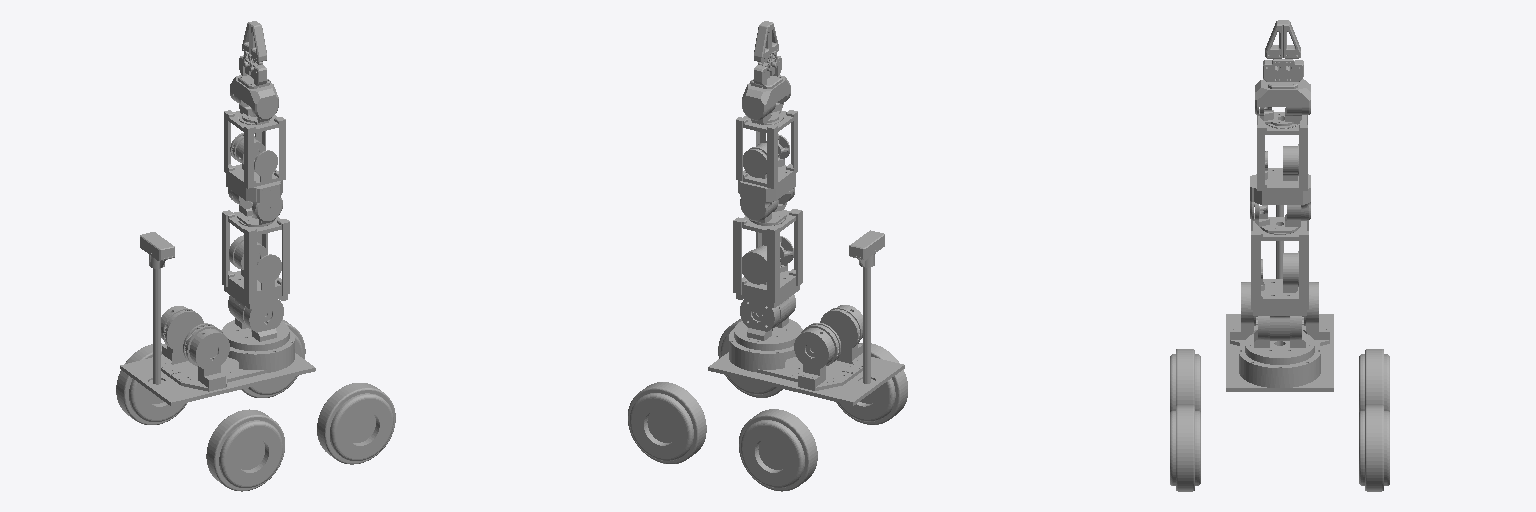
--- Facts derived from the render (not from the file) ---
3 views of the same robot in one strip: view 1: azimuth 30°, elevation 25°; view 2: azimuth 150°, elevation 25°; view 3: azimuth 270°, elevation 25° (orthographic).
Model HBV2_URDF with 19 links and 18 joints (10 revolute, 4 continuous, 4 fixed), rooted at base_link, posed all joints at 0.
Links seen in each view (by area): view 1: Shoulder_Theta_1, Elbow_Theta_1, Wheel_RF_1, Wheel_RB_1, Wrist_Theta_1, Shoulder_Fi_1, Wheel_LB_1, Gripper_Core_1, Camera_Rod__1__1, Wheel_LF_1, Camera_Housing_1, Elbow_Fi_1; view 2: Shoulder_Theta_1, Elbow_Theta_1, Wheel_LB_1, Wheel_LF_1, Wrist_Theta_1, Shoulder_Fi_1, Wheel_RB_1, Gripper_Core_1, Camera_Rod__1__1, Wheel_RF_1, Camera_Housing_1, Elbow_Fi_1; view 3: Shoulder_Theta_1, Elbow_Theta_1, Wrist_Theta_1, Wheel_RF_1, Wheel_LF_1, Gripper_Core_1, Shoulder_Fi_1, Wheel_RB_1, Wheel_LB_1, Elbow_Fi_1, Wrist_Fi_1.
Link boxes in pixels (<box>): Shoulder_Theta_1: <box>120,306,315,405</box>; Elbow_Theta_1: <box>222,210,289,329</box>; Wheel_RF_1: <box>317,383,395,464</box>; Wheel_RB_1: <box>206,409,284,491</box>; Wrist_Theta_1: <box>224,110,285,221</box>; Shoulder_Fi_1: <box>222,295,289,351</box>; Wheel_LB_1: <box>116,343,186,424</box>; Gripper_Core_1: <box>230,54,278,119</box>; Camera_Rod__1__1: <box>153,268,160,384</box>; Wheel_LF_1: <box>241,319,305,397</box>; Camera_Housing_1: <box>140,232,174,268</box>; Elbow_Fi_1: <box>232,191,274,226</box>; Shoulder_Theta_1: <box>708,305,904,405</box>; Elbow_Theta_1: <box>733,209,802,328</box>; Wheel_LB_1: <box>739,409,817,491</box>; Wheel_LF_1: <box>628,382,706,463</box>; Wrist_Theta_1: <box>736,110,797,221</box>; Shoulder_Fi_1: <box>734,295,801,350</box>; Wheel_RB_1: <box>836,343,907,424</box>; Gripper_Core_1: <box>742,55,790,120</box>; Camera_Rod__1__1: <box>863,267,870,383</box>; Wheel_RF_1: <box>718,319,782,397</box>; Camera_Housing_1: <box>849,230,884,267</box>; Elbow_Fi_1: <box>749,189,793,225</box>; Shoulder_Theta_1: <box>1226,282,1333,391</box>; Elbow_Theta_1: <box>1251,213,1308,340</box>; Wrist_Theta_1: <box>1250,109,1310,220</box>; Wheel_RF_1: <box>1170,405,1200,491</box>; Wheel_LF_1: <box>1359,405,1389,491</box>; Gripper_Core_1: <box>1255,59,1310,114</box>; Shoulder_Fi_1: <box>1245,316,1314,364</box>; Wheel_RB_1: <box>1170,349,1200,411</box>; Wheel_LB_1: <box>1359,349,1389,411</box>; Elbow_Fi_1: <box>1255,203,1300,234</box>; Wrist_Fi_1: <box>1260,107,1301,128</box>.
Size in the robot's own frame: 0.6459 by 0.5849 by 1.28 metres.
17 mesh visuals loaded from 18 distinct referenced files (17 binary STL); not drawn: 1 (reference not matched to a file when rendering).

robot.urdf — HBV2_URDF:
<?xml version="1.0" ?>
<!-- =================================================================================== -->
<!-- |    This document was autogenerated by xacro from HBV2_URDF.xacro                | -->
<!-- |    EDITING THIS FILE BY HAND IS NOT RECOMMENDED                                 | -->
<!-- =================================================================================== -->
<robot name="HBV2_URDF">
  <material name="silver">
    <color rgba="0.700 0.700 0.700 1.000"/>
  </material>
  <transmission name="Elbow_Theta_tran">
    <type>transmission_interface/SimpleTransmission</type>
    <joint name="Elbow_Theta">
      <hardwareInterface>hardware_interface/PositionJointInterface</hardwareInterface>
    </joint>
    <actuator name="Elbow_Theta_actr">
      <hardwareInterface>hardware_interface/PositionJointInterface</hardwareInterface>
      <mechanicalReduction>1</mechanicalReduction>
    </actuator>
  </transmission>
  <transmission name="Wrist_Theta_tran">
    <type>transmission_interface/SimpleTransmission</type>
    <joint name="Wrist_Theta">
      <hardwareInterface>hardware_interface/PositionJointInterface</hardwareInterface>
    </joint>
    <actuator name="Wrist_Theta_actr">
      <hardwareInterface>hardware_interface/PositionJointInterface</hardwareInterface>
      <mechanicalReduction>1</mechanicalReduction>
    </actuator>
  </transmission>
  <transmission name="Shoulder_Theta_Joint_tran">
    <type>transmission_interface/SimpleTransmission</type>
    <joint name="Shoulder_Theta_Joint">
      <hardwareInterface>hardware_interface/PositionJointInterface</hardwareInterface>
    </joint>
    <actuator name="Shoulder_Theta_Joint_actr">
      <hardwareInterface>hardware_interface/PositionJointInterface</hardwareInterface>
      <mechanicalReduction>1</mechanicalReduction>
    </actuator>
  </transmission>
  <transmission name="GCore_RSL_tran">
    <type>transmission_interface/SimpleTransmission</type>
    <joint name="GCore_RSL">
      <hardwareInterface>hardware_interface/PositionJointInterface</hardwareInterface>
    </joint>
    <actuator name="GCore_RSL_actr">
      <hardwareInterface>hardware_interface/PositionJointInterface</hardwareInterface>
      <mechanicalReduction>1</mechanicalReduction>
    </actuator>
  </transmission>
  <transmission name="RSL_RightProng_tran">
    <type>transmission_interface/SimpleTransmission</type>
    <joint name="RSL_RightProng">
      <hardwareInterface>hardware_interface/PositionJointInterface</hardwareInterface>
    </joint>
    <actuator name="RSL_RightProng_actr">
      <hardwareInterface>hardware_interface/PositionJointInterface</hardwareInterface>
      <mechanicalReduction>1</mechanicalReduction>
    </actuator>
  </transmission>
  <transmission name="LSL_LeftProng_tran">
    <type>transmission_interface/SimpleTransmission</type>
    <joint name="LSL_LeftProng">
      <hardwareInterface>hardware_interface/PositionJointInterface</hardwareInterface>
    </joint>
    <actuator name="LSL_LeftProng_actr">
      <hardwareInterface>hardware_interface/PositionJointInterface</hardwareInterface>
      <mechanicalReduction>1</mechanicalReduction>
    </actuator>
  </transmission>
  <transmission name="GCore_LSL_tran">
    <type>transmission_interface/SimpleTransmission</type>
    <joint name="GCore_LSL">
      <hardwareInterface>hardware_interface/PositionJointInterface</hardwareInterface>
    </joint>
    <actuator name="GCore_LSL_actr">
      <hardwareInterface>hardware_interface/PositionJointInterface</hardwareInterface>
      <mechanicalReduction>1</mechanicalReduction>
    </actuator>
  </transmission>
  <transmission name="Base_WheelRF_tran">
    <type>transmission_interface/SimpleTransmission</type>
    <joint name="Base_WheelRF">
      <hardwareInterface>hardware_interface/VelocityJointInterface</hardwareInterface>
    </joint>
    <actuator name="Base_WheelRF_actr">
      <hardwareInterface>hardware_interface/VelocityJointInterface</hardwareInterface>
      <mechanicalReduction>1</mechanicalReduction>
    </actuator>
  </transmission>
  <transmission name="Base_WheelLF_tran">
    <type>transmission_interface/SimpleTransmission</type>
    <joint name="Base_WheelLF">
      <hardwareInterface>hardware_interface/VelocityJointInterface</hardwareInterface>
    </joint>
    <actuator name="Base_WheelLF_actr">
      <hardwareInterface>hardware_interface/VelocityJointInterface</hardwareInterface>
      <mechanicalReduction>1</mechanicalReduction>
    </actuator>
  </transmission>
  <transmission name="Base_WheelRB_tran">
    <type>transmission_interface/SimpleTransmission</type>
    <joint name="Base_WheelRB">
      <hardwareInterface>hardware_interface/VelocityJointInterface</hardwareInterface>
    </joint>
    <actuator name="Base_WheelRB_actr">
      <hardwareInterface>hardware_interface/VelocityJointInterface</hardwareInterface>
      <mechanicalReduction>1</mechanicalReduction>
    </actuator>
  </transmission>
  <transmission name="Base_WheelLB_tran">
    <type>transmission_interface/SimpleTransmission</type>
    <joint name="Base_WheelLB">
      <hardwareInterface>hardware_interface/VelocityJointInterface</hardwareInterface>
    </joint>
    <actuator name="Base_WheelLB_actr">
      <hardwareInterface>hardware_interface/VelocityJointInterface</hardwareInterface>
      <mechanicalReduction>1</mechanicalReduction>
    </actuator>
  </transmission>
  <transmission name="Shoulder_Fi_tran">
    <type>transmission_interface/SimpleTransmission</type>
    <joint name="Shoulder_Fi">
      <hardwareInterface>hardware_interface/PositionJointInterface</hardwareInterface>
    </joint>
    <actuator name="Shoulder_Fi_actr">
      <hardwareInterface>hardware_interface/PositionJointInterface</hardwareInterface>
      <mechanicalReduction>1</mechanicalReduction>
    </actuator>
  </transmission>
  <transmission name="Elbow_Fi_tran">
    <type>transmission_interface/SimpleTransmission</type>
    <joint name="Elbow_Fi">
      <hardwareInterface>hardware_interface/PositionJointInterface</hardwareInterface>
    </joint>
    <actuator name="Elbow_Fi_actr">
      <hardwareInterface>hardware_interface/PositionJointInterface</hardwareInterface>
      <mechanicalReduction>1</mechanicalReduction>
    </actuator>
  </transmission>
  <transmission name="Wrist_Fi_tran">
    <type>transmission_interface/SimpleTransmission</type>
    <joint name="Wrist_Fi">
      <hardwareInterface>hardware_interface/PositionJointInterface</hardwareInterface>
    </joint>
    <actuator name="Wrist_Fi_actr">
      <hardwareInterface>hardware_interface/PositionJointInterface</hardwareInterface>
      <mechanicalReduction>1</mechanicalReduction>
    </actuator>
  </transmission>
  <gazebo>
    <plugin filename="libgazebo_ros_control.so" name="control"/>
  </gazebo>
  <gazebo reference="base_link">
    <material>Gazebo/Silver</material>
    <mu1>0.2</mu1>
    <mu2>0.2</mu2>
    <selfCollide>true</selfCollide>
    <gravity>true</gravity>
  </gazebo>
  <gazebo reference="Elbow_Fi_1">
    <material>Gazebo/Silver</material>
    <mu1>0.2</mu1>
    <mu2>0.2</mu2>
    <selfCollide>true</selfCollide>
  </gazebo>
  <gazebo reference="Wrist_Fi_1">
    <material>Gazebo/Silver</material>
    <mu1>0.2</mu1>
    <mu2>0.2</mu2>
    <selfCollide>true</selfCollide>
  </gazebo>
  <gazebo reference="Shoulder_Theta_1">
    <material>Gazebo/Silver</material>
    <mu1>0.2</mu1>
    <mu2>0.2</mu2>
    <selfCollide>true</selfCollide>
  </gazebo>
  <gazebo reference="Shoulder_Fi_1">
    <material>Gazebo/Silver</material>
    <mu1>0.2</mu1>
    <mu2>0.2</mu2>
    <selfCollide>true</selfCollide>
  </gazebo>
  <gazebo reference="RSL__1__1">
    <material>Gazebo/Silver</material>
    <mu1>0.2</mu1>
    <mu2>0.2</mu2>
    <selfCollide>true</selfCollide>
  </gazebo>
  <gazebo reference="RightProng__1__1">
    <material>Gazebo/Silver</material>
    <mu1>0.2</mu1>
    <mu2>0.2</mu2>
    <selfCollide>true</selfCollide>
  </gazebo>
  <gazebo reference="LeftProng__2__1">
    <material>Gazebo/Silver</material>
    <mu1>0.2</mu1>
    <mu2>0.2</mu2>
    <selfCollide>true</selfCollide>
  </gazebo>
  <gazebo reference="LSL__3__1">
    <material>Gazebo/Silver</material>
    <mu1>0.2</mu1>
    <mu2>0.2</mu2>
    <selfCollide>true</selfCollide>
  </gazebo>
  <gazebo reference="Wheel_RF_1">
    <material>Gazebo/Silver</material>
    <mu1>0.2</mu1>
    <mu2>0.2</mu2>
    <selfCollide>true</selfCollide>
  </gazebo>
  <gazebo reference="Wheel_LF_1">
    <material>Gazebo/Silver</material>
    <mu1>0.2</mu1>
    <mu2>0.2</mu2>
    <selfCollide>true</selfCollide>
  </gazebo>
  <gazebo reference="Wheel_RB_1">
    <material>Gazebo/Silver</material>
    <mu1>0.2</mu1>
    <mu2>0.2</mu2>
    <selfCollide>true</selfCollide>
  </gazebo>
  <gazebo reference="Wheel_LB_1">
    <material>Gazebo/Silver</material>
    <mu1>0.2</mu1>
    <mu2>0.2</mu2>
    <selfCollide>true</selfCollide>
  </gazebo>
  <gazebo reference="Camera_Rod__1__1">
    <material>Gazebo/Silver</material>
    <mu1>0.2</mu1>
    <mu2>0.2</mu2>
    <selfCollide>true</selfCollide>
  </gazebo>
  <gazebo reference="Camera_Housing_1">
    <material>Gazebo/Silver</material>
    <mu1>0.2</mu1>
    <mu2>0.2</mu2>
    <selfCollide>true</selfCollide>
  </gazebo>
  <gazebo reference="Elbow_Theta_1">
    <material>Gazebo/Silver</material>
    <mu1>0.2</mu1>
    <mu2>0.2</mu2>
    <selfCollide>true</selfCollide>
  </gazebo>
  <gazebo reference="Wrist_Theta_1">
    <material>Gazebo/Silver</material>
    <mu1>0.2</mu1>
    <mu2>0.2</mu2>
    <selfCollide>true</selfCollide>
  </gazebo>
  <gazebo reference="Gripper_Core_1">
    <material>Gazebo/Silver</material>
    <mu1>0.2</mu1>
    <mu2>0.2</mu2>
    <selfCollide>true</selfCollide>
  </gazebo>
  <!--
  <link name="world"/>
  <joint name="virtual_joint" type="fixed">
    <origin rpy="0 0 0" xyz="0 0 0"/>
    <parent link="world"/>
    <child link="base_link"/>
  </joint>
-->
  <link name="base_link">
    <inertial>
      <origin rpy="0 0 0" xyz="0.000850703825743988 0.49664524660197173 0.1431193454180441"/>
      <mass value="83.16735088772546"/>
      <inertia ixx="2.05207" ixy="-0.008757" ixz="0.001707" iyy="3.182622" iyz="0.00132" izz="4.445124"/>
    </inertial>
    <visual>
      <origin rpy="0 0 0" xyz="0 0 0"/>
      <geometry>
        <mesh filename="package://HBV2_URDF_description/meshes/base_link.stl" scale="0.001 0.001 0.001"/>
      </geometry>
      <material name="silver"/>
    </visual>
    <collision>
      <origin rpy="0 0 0" xyz="0 0 0"/>
      <geometry>
        <mesh filename="package://HBV2_URDF_description/meshes/base_link.stl" scale="0.001 0.001 0.001"/>
      </geometry>
    </collision>
  </link>
  <link name="Elbow_Fi_1">
    <inertial>
      <origin rpy="0 0 0" xyz="2.1124811195401185e-05 -0.004476902241319081 0.04500687296019246"/>
      <mass value="2.6957216092371197"/>
      <inertia ixx="0.007517" ixy="-2e-06" ixz="-4e-06" iyy="0.004928" iyz="0.000521" izz="0.005378"/>
    </inertial>
    <visual>
      <origin rpy="0 0 0" xyz="-0.001635 -0.496054 -0.667865"/>
      <geometry>
        <mesh filename="package://HBV2_URDF_description/meshes/Elbow_Fi_1.stl" scale="0.001 0.001 0.001"/>
      </geometry>
      <material name="silver"/>
    </visual>
    <collision>
      <origin rpy="0 0 0" xyz="-0.001635 -0.496054 -0.667865"/>
      <geometry>
        <mesh filename="package://HBV2_URDF_description/meshes/Elbow_Fi_1.stl" scale="0.001 0.001 0.001"/>
      </geometry>
    </collision>
  </link>
  <link name="Wrist_Fi_1">
    <inertial>
      <origin rpy="0 0 0" xyz="3.808198436288019e-05 -0.003748542098453378 0.042775550119039774"/>
      <mass value="2.1119426583573655"/>
      <inertia ixx="0.004759" ixy="-3e-06" ixz="-3e-06" iyy="0.003093" iyz="0.000293" izz="0.003312"/>
    </inertial>
    <visual>
      <origin rpy="0 0 0" xyz="-0.001635 -0.502604 -0.975809"/>
      <geometry>
        <mesh filename="package://HBV2_URDF_description/meshes/Wrist_Fi_1.stl" scale="0.001 0.001 0.001"/>
      </geometry>
      <material name="silver"/>
    </visual>
    <collision>
      <origin rpy="0 0 0" xyz="-0.001635 -0.502604 -0.975809"/>
      <geometry>
        <mesh filename="package://HBV2_URDF_description/meshes/Wrist_Fi_1.stl" scale="0.001 0.001 0.001"/>
      </geometry>
    </collision>
  </link>
  <link name="Shoulder_Theta_1">
    <inertial>
      <origin rpy="0 0 0" xyz="-0.09893520482510751 5.81749154230371e-05 0.04088469510241685"/>
      <mass value="24.00560665158243"/>
      <inertia ixx="0.187102" ixy="0.000137" ixz="0.012323" iyy="0.417351" iyz="-9.7e-05" izz="0.523776"/>
    </inertial>
    <visual>
      <origin rpy="0 0 0" xyz="-0.001635 -0.496054 -0.246551"/>
      <geometry>
        <mesh filename="package://HBV2_URDF_description/meshes/Shoulder_Theta_1.stl" scale="0.001 0.001 0.001"/>
      </geometry>
      <material name="silver"/>
    </visual>
    <collision>
      <origin rpy="0 0 0" xyz="-0.001635 -0.496054 -0.246551"/>
      <geometry>
        <mesh filename="package://HBV2_URDF_description/meshes/Shoulder_Theta_1.stl" scale="0.001 0.001 0.001"/>
      </geometry>
    </collision>
  </link>
  <link name="Shoulder_Fi_1">
    <inertial>
      <origin rpy="0 0 0" xyz="2.233815221067809e-05 -0.00012306065436118452 0.03488942876530954"/>
      <mass value="6.6711474057675115"/>
      <inertia ixx="0.026216" ixy="-0.0" ixz="-1.5e-05" iyy="0.021888" iyz="4.9e-05" izz="0.027122"/>
    </inertial>
    <visual>
      <origin rpy="0 0 0" xyz="-0.001635 -0.496054 -0.318719"/>
      <geometry>
        <mesh filename="package://HBV2_URDF_description/meshes/Shoulder_Fi_1.stl" scale="0.001 0.001 0.001"/>
      </geometry>
      <material name="silver"/>
    </visual>
    <collision>
      <origin rpy="0 0 0" xyz="-0.001635 -0.496054 -0.318719"/>
      <geometry>
        <mesh filename="package://HBV2_URDF_description/meshes/Shoulder_Fi_1.stl" scale="0.001 0.001 0.001"/>
      </geometry>
    </collision>
  </link>
  <link name="RSL__1__1">
    <inertial>
      <origin rpy="0 0 0" xyz="-0.00602072788649264 0.0004602032959704072 0.01213633179737239"/>
      <mass value="0.028211625634964734"/>
      <inertia ixx="0.001" ixy="0.001" ixz="0.001" iyy="0.01" iyz="-0.001" izz="0.001"/>
    </inertial>
    <visual>
      <origin rpy="0 0 0" xyz="0.012465 -0.489604 -1.149476"/>
      <geometry>
        <mesh filename="package://HBV2_URDF_description/meshes/RSL__1__1.stl" scale="0.001 0.001 0.001"/>
      </geometry>
      <material name="silver"/>
    </visual>
    <collision>
      <origin rpy="0 0 0" xyz="0.012465 -0.489604 -1.149476"/>
      <geometry>
        <mesh filename="package://HBV2_URDF_description/meshes/RSL__1__1.stl" scale="0.001 0.001 0.001"/>
      </geometry>
    </collision>
  </link>
  <link name="RightProng__1__1">
    <inertial>
      <origin rpy="0 0 0" xyz="0.01500020886022858 -0.00934695725623802 0.03142613696884822"/>
      <mass value="0.618571467723155"/>
      <inertia ixx="0.001" ixy="-0.001" ixz="-0.001" iyy="0.001" iyz="-0.001" izz="0.001"/>
    </inertial>
    <visual>
      <origin rpy="0 0 0" xyz="0.012665 -0.494919 -1.187076"/>
      <geometry>
        <mesh filename="package://HBV2_URDF_description/meshes/RightProng__1__1.stl" scale="0.001 0.001 0.001"/>
      </geometry>
      <material name="silver"/>
    </visual>
    <collision>
      <origin rpy="0 0 0" xyz="0.012665 -0.494919 -1.187076"/>
      <geometry>
        <mesh filename="package://HBV2_URDF_description/meshes/RightProng__1__1.stl" scale="0.001 0.001 0.001"/>
      </geometry>
    </collision>
  </link>
  <link name="LeftProng__2__1">
    <inertial>
      <origin rpy="0 0 0" xyz="0.015000208860241815 0.009341259465312834 0.031406978994162005"/>
      <mass value="0.6189487887088181"/>
      <inertia ixx="0.001" ixy="-0.001" ixz="-0.001" iyy="0.001" iyz="0.001" izz="0.001"/>
    </inertial>
    <visual>
      <origin rpy="0 0 0" xyz="0.012665 -0.514289 -1.187076"/>
      <geometry>
        <mesh filename="package://HBV2_URDF_description/meshes/LeftProng__2__1.stl" scale="0.001 0.001 0.001"/>
      </geometry>
      <material name="silver"/>
    </visual>
    <collision>
      <origin rpy="0 0 0" xyz="0.012665 -0.514289 -1.187076"/>
      <geometry>
        <mesh filename="package://HBV2_URDF_description/meshes/LeftProng__2__1.stl" scale="0.001 0.001 0.001"/>
      </geometry>
    </collision>
  </link>
  <link name="LSL__3__1">
    <inertial>
      <origin rpy="0 0 0" xyz="-0.006020728028839378 -0.00046019628870652696 0.012136325015627225"/>
      <mass value="0.028211647703611422"/>
      <inertia ixx="0.001" ixy="-0.001" ixz="0.001" iyy="0.001" iyz="0.001" izz="0.001"/>
    </inertial>
    <visual>
      <origin rpy="0 0 0" xyz="0.012465 -0.519604 -1.149476"/>
      <geometry>
        <mesh filename="package://HBV2_URDF_description/meshes/LSL__3__1.stl" scale="0.001 0.001 0.001"/>
      </geometry>
      <material name="silver"/>
    </visual>
    <collision>
      <origin rpy="0 0 0" xyz="0.012465 -0.519604 -1.149476"/>
      <geometry>
        <mesh filename="package://HBV2_URDF_description/meshes/LSL__3__1.stl" scale="0.001 0.001 0.001"/>
      </geometry>
    </collision>
  </link>
  <link name="Wheel_RF_1">
    <inertial>
      <origin rpy="0 0 0" xyz="1.0816852191730675e-08 -0.02075000000044916 2.772021913399758e-07"/>
      <mass value="21.410160340290883"/>
      <inertia ixx="0.079808" ixy="-0.0" ixz="0.0" iyy="0.140288" iyz="0.0" izz="0.079808"/>
    </inertial>
    <visual>
      <origin rpy="0 0 0" xyz="-0.178899 -0.266079 -0.114299"/>
      <geometry>
        <mesh filename="package://HBV2_URDF_description/meshes/Wheel_RF_1.stl" scale="0.001 0.001 0.001"/>
      </geometry>
      <material name="silver"/>
    </visual>
    <collision>
      <origin rpy="0 0 0" xyz="-0.178899 -0.266079 -0.114299"/>
      <geometry>
        <mesh filename="package://HBV2_URDF_description/meshes/Wheel_RF_1.stl" scale="0.001 0.001 0.001"/>
      </geometry>
    </collision>
  </link>
  <link name="Wheel_LF_1">
    <inertial>
      <origin rpy="0 0 0" xyz="1.0816852247241826e-08 0.0207499999995574 2.772021904656752e-07"/>
      <mass value="21.410160340290883"/>
      <inertia ixx="0.079808" ixy="-0.0" ixz="0.0" iyy="0.140288" iyz="0.0" izz="0.079808"/>
    </inertial>
    <visual>
      <origin rpy="0 0 0" xyz="-0.178899 -0.726029 -0.114299"/>
      <geometry>
        <mesh filename="package://HBV2_URDF_description/meshes/Wheel_LF_1.stl" scale="0.001 0.001 0.001"/>
      </geometry>
      <material name="silver"/>
    </visual>
    <collision>
      <origin rpy="0 0 0" xyz="-0.178899 -0.726029 -0.114299"/>
      <geometry>
        <mesh filename="package://HBV2_URDF_description/meshes/Wheel_LF_1.stl" scale="0.001 0.001 0.001"/>
      </geometry>
    </collision>
  </link>
  <link name="Wheel_RB_1">
    <inertial>
      <origin rpy="0 0 0" xyz="4.974939914748067e-07 -0.020750000000448382 2.7720219129834245e-07"/>
      <mass value="21.410160340290883"/>
      <inertia ixx="0.079808" ixy="-0.0" ixz="0.0" iyy="0.140288" iyz="-0.0" izz="0.079808"/>
    </inertial>
    <visual>
      <origin rpy="0 0 0" xyz="0.175629 -0.266079 -0.114299"/>
      <geometry>
        <mesh filename="package://HBV2_URDF_description/meshes/Wheel_RB_1.stl" scale="0.001 0.001 0.001"/>
      </geometry>
      <material name="silver"/>
    </visual>
    <collision>
      <origin rpy="0 0 0" xyz="0.175629 -0.266079 -0.114299"/>
      <geometry>
        <mesh filename="package://HBV2_URDF_description/meshes/Wheel_RB_1.stl" scale="0.001 0.001 0.001"/>
      </geometry>
    </collision>
  </link>
  <link name="Wheel_LB_1">
    <inertial>
      <origin rpy="0 0 0" xyz="4.974939914470511e-07 0.020749999999557622 2.772021902019972e-07"/>
      <mass value="21.410160340290883"/>
      <inertia ixx="0.079808" ixy="-0.0" ixz="0.0" iyy="0.140288" iyz="-0.0" izz="0.079808"/>
    </inertial>
    <visual>
      <origin rpy="0 0 0" xyz="0.175629 -0.726029 -0.114299"/>
      <geometry>
        <mesh filename="package://HBV2_URDF_description/meshes/Wheel_LB_1.stl" scale="0.001 0.001 0.001"/>
      </geometry>
      <material name="silver"/>
    </visual>
    <collision>
      <origin rpy="0 0 0" xyz="0.175629 -0.726029 -0.114299"/>
      <geometry>
        <mesh filename="package://HBV2_URDF_description/meshes/Wheel_LB_1.stl" scale="0.001 0.001 0.001"/>
      </geometry>
    </collision>
  </link>
  <link name="Camera_Rod__1__1">
    <inertial>
      <origin rpy="0 0 0" xyz="-4.99966369915672e-07 -1.0508501291361938e-09 0.19999953386361996"/>
      <mass value="1.327380701446504"/>
      <inertia ixx="0.017743" ixy="-0.0" ixz="0.0" iyy="0.017743" iyz="0.0" izz="8.9e-05"/>
    </inertial>
    <visual>
      <origin rpy="0 0 0" xyz="0.315312 -0.496055 -0.252951"/>
      <geometry>
        <mesh filename="package://HBV2_URDF_description/meshes/Camera_Rod__1__1.stl" scale="0.001 0.001 0.001"/>
      </geometry>
      <material name="silver"/>
    </visual>
    <collision>
      <origin rpy="0 0 0" xyz="0.315312 -0.496055 -0.252951"/>
      <geometry>
        <mesh filename="package://HBV2_URDF_description/meshes/Camera_Rod__1__1.stl" scale="0.001 0.001 0.001"/>
      </geometry>
    </collision>
  </link>
  <link name="Camera_Housing_1">
    <inertial>
      <origin rpy="0 0 0" xyz="-0.0010156886248149921 3.0852436220807355e-06 0.00711860710983836"/>
      <mass value="1.3677782029205452"/>
      <inertia ixx="0.00192" ixy="-0.0" ixz="1.3e-05" iyy="0.000885" iyz="-0.0" izz="0.001671"/>
    </inertial>
    <visual>
      <origin rpy="0 0 0" xyz="0.315312 -0.496055 -0.652951"/>
      <geometry>
        <mesh filename="package://HBV2_URDF_description/meshes/Camera_Housing_1.stl" scale="0.001 0.001 0.001"/>
      </geometry>
      <material name="silver"/>
    </visual>
    <collision>
      <origin rpy="0 0 0" xyz="0.315312 -0.496055 -0.652951"/>
      <geometry>
        <mesh filename="package://HBV2_URDF_description/meshes/Camera_Housing_1.stl" scale="0.001 0.001 0.001"/>
      </geometry>
    </collision>
  </link>
  <link name="Elbow_Theta_1">
    <inertial>
      <origin rpy="0 0 0" xyz="5.025678449546841e-06 0.028944188172434826 0.09816588851369912"/>
      <mass value="11.80726031614154"/>
      <inertia ixx="0.095065" ixy="2e-06" ixz="-5e-06" iyy="0.089799" iyz="-0.001031" izz="0.043575"/>
    </inertial>
    <visual>
      <origin rpy="0 0 0" xyz="-0.001635 -0.468554 -0.409273"/>
      <geometry>
        <mesh filename="package://HBV2_URDF_description/meshes/Elbow_Theta_1.stl" scale="0.001 0.001 0.001"/>
      </geometry>
      <material name="silver"/>
    </visual>
    <collision>
      <origin rpy="0 0 0" xyz="-0.001635 -0.468554 -0.409273"/>
      <geometry>
        <mesh filename="package://HBV2_URDF_description/meshes/Elbow_Theta_1.stl" scale="0.001 0.001 0.001"/>
      </geometry>
    </collision>
  </link>
  <link name="Wrist_Theta_1">
    <inertial>
      <origin rpy="0 0 0" xyz="-3.840368737391929e-06 -0.05148249173289887 0.0806903784476557"/>
      <mass value="9.499760886023896"/>
      <inertia ixx="0.061147" ixy="2e-06" ixz="-6e-06" iyy="0.051491" iyz="-0.002054" izz="0.033598"/>
    </inertial>
    <visual>
      <origin rpy="0 0 0" xyz="-0.001635 -0.552804 -0.746549"/>
      <geometry>
        <mesh filename="package://HBV2_URDF_description/meshes/Wrist_Theta_1.stl" scale="0.001 0.001 0.001"/>
      </geometry>
      <material name="silver"/>
    </visual>
    <collision>
      <origin rpy="0 0 0" xyz="-0.001635 -0.552804 -0.746549"/>
      <geometry>
        <mesh filename="package://HBV2_URDF_description/meshes/Wrist_Theta_1.stl" scale="0.001 0.001 0.001"/>
      </geometry>
    </collision>
  </link>
  <link name="Gripper_Core_1">
    <inertial>
      <origin rpy="0 0 0" xyz="-0.0003955052408598993 -0.05257449949398196 0.04646356867960444"/>
      <mass value="3.431629449758737"/>
      <inertia ixx="0.009975" ixy="3e-06" ixz="5.2e-05" iyy="0.005271" iyz="-0.000331" izz="0.007649"/>
    </inertial>
    <visual>
      <origin rpy="0 0 0" xyz="-0.001635 -0.555104 -1.048764"/>
      <geometry>
        <mesh filename="package://HBV2_URDF_description/meshes/Gripper_Core_1.stl" scale="0.001 0.001 0.001"/>
      </geometry>
      <material name="silver"/>
    </visual>
    <collision>
      <origin rpy="0 0 0" xyz="-0.001635 -0.555104 -1.048764"/>
      <geometry>
        <mesh filename="package://HBV2_URDF_description/meshes/Gripper_Core_1.stl" scale="0.001 0.001 0.001"/>
      </geometry>
    </collision>
  </link>

  <link name="imu_link"/>
  <joint name="imu_base" type="fixed">
    <origin rpy="0 0 0" xyz="0 0 0"/>
    <parent link="base_link"/>
    <child link="imu_link"/>
  </joint>

  <joint name="Elbow_Theta" type="revolute">
    <origin rpy="0 0 0" xyz="0.0 0.0275 0.258592"/>
    <parent link="Elbow_Theta_1"/>
    <child link="Elbow_Fi_1"/>
    <axis xyz="-0.0 -0.0 -1.0"/>
    <limit effort="100" lower="-1.570796" upper="1.570796" velocity="100"/>
  </joint>
  <joint name="Wrist_Theta" type="revolute">
    <origin rpy="0 0 0" xyz="0.0 -0.0502 0.22926"/>
    <parent link="Wrist_Theta_1"/>
    <child link="Wrist_Fi_1"/>
    <axis xyz="-0.0 -0.0 -1.0"/>
    <limit effort="100" lower="-1.570796" upper="1.570796" velocity="100"/>
  </joint>
  <joint name="Arm_Base" type="fixed">
    <origin rpy="0 0 0" xyz="0.001635 0.496054 0.246551"/>
    <parent link="base_link"/>
    <child link="Shoulder_Theta_1"/>
  </joint>
  <joint name="Shoulder_Theta_Joint" type="revolute">
    <origin rpy="0 0 0" xyz="0.0 0.0 0.072168"/>
    <parent link="Shoulder_Theta_1"/>
    <child link="Shoulder_Fi_1"/>
    <axis xyz="0.0 -0.0 -1.0"/>
    <limit effort="100" lower="-1.570796" upper="1.570796" velocity="100"/>
  </joint>
  <joint name="GCore_RSL" type="revolute">
    <origin rpy="0 0 0" xyz="-0.0141 -0.0655 0.100712"/>
    <parent link="Gripper_Core_1"/>
    <child link="RSL__1__1"/>
    <axis xyz="1.0 0.0 0.0"/>
    <limit effort="100" lower="0.0" upper="1.090831" velocity="100"/>
  </joint>
  <joint name="RSL_RightProng" type="revolute">
    <origin rpy="0 0 0" xyz="-0.0002 0.005315 0.0376"/>
    <parent link="RSL__1__1"/>
    <child link="RightProng__1__1"/>
    <axis xyz="-1.0 -0.0 -0.0"/>
    <limit effort="100" lower="0.0" upper="1.090831" velocity="100"/>
    <mimic joint="GCore_RSL" multiplier="1.0" offset="0.0"/>
  </joint>
  <joint name="LSL_LeftProng" type="revolute">
    <origin rpy="0 0 0" xyz="-0.0002 -0.005315 0.0376"/>
    <parent link="LSL__3__1"/>
    <child link="LeftProng__2__1"/>
    <axis xyz="-1.0 -0.0 -0.0"/>
    <limit effort="100" lower="-1.090831" upper="0.0" velocity="100"/>
    <mimic joint="GCore_RSL" multiplier="-1.0" offset="0.0"/>
  </joint>
  <joint name="GCore_LSL" type="revolute">
    <origin rpy="0 0 0" xyz="-0.0141 -0.0355 0.100712"/>
    <parent link="Gripper_Core_1"/>
    <child link="LSL__3__1"/>
    <axis xyz="1.0 0.0 0.0"/>
    <limit effort="100" lower="-1.090831" upper="0.0" velocity="100"/>
    <mimic joint="GCore_RSL" multiplier="-1.0" offset="0.0"/>
  </joint>
  <joint name="Base_WheelRF" type="continuous">
    <origin rpy="0 0 0" xyz="0.178899 0.266079 0.114299"/>
    <parent link="base_link"/>
    <child link="Wheel_RF_1"/>
    <axis xyz="0.0 -1.0 0.0"/>
  </joint>
  <joint name="Base_WheelLF" type="continuous">
    <origin rpy="0 0 0" xyz="0.178899 0.726029 0.114299"/>
    <parent link="base_link"/>
    <child link="Wheel_LF_1"/>
    <axis xyz="-0.0 1.0 0.0"/>
  </joint>
  <joint name="Base_WheelRB" type="continuous">
    <origin rpy="0 0 0" xyz="-0.175629 0.266079 0.114299"/>
    <parent link="base_link"/>
    <child link="Wheel_RB_1"/>
    <axis xyz="-0.0 -1.0 0.0"/>
  </joint>
  <joint name="Base_WheelLB" type="continuous">
    <origin rpy="0 0 0" xyz="-0.175629 0.726029 0.114299"/>
    <parent link="base_link"/>
    <child link="Wheel_LB_1"/>
    <axis xyz="0.0 1.0 0.0"/>
  </joint>
  <joint name="Base_CameraRod" type="fixed">
    <origin rpy="0 0 0" xyz="-0.316947 1e-06 0.0064"/>
    <parent link="Shoulder_Theta_1"/>
    <child link="Camera_Rod__1__1"/>
  </joint>
  <joint name="CameraRod_CameraHousing" type="fixed">
    <origin rpy="0 0 0" xyz="0.0 0.0 0.4"/>
    <parent link="Camera_Rod__1__1"/>
    <child link="Camera_Housing_1"/>
  </joint>
  <joint name="Shoulder_Fi" type="revolute">
    <origin rpy="0 0 0" xyz="0.0 -0.0275 0.090554"/>
    <parent link="Shoulder_Fi_1"/>
    <child link="Elbow_Theta_1"/>
    <axis xyz="0.0 1.0 -0.0"/>
    <limit effort="100" lower="0.0" upper="1.396263" velocity="100"/>
  </joint>
  <joint name="Elbow_Fi" type="revolute">
    <origin rpy="0 0 0" xyz="0.0 0.05675 0.078684"/>
    <parent link="Elbow_Fi_1"/>
    <child link="Wrist_Theta_1"/>
    <axis xyz="0.0 1.0 -0.0"/>
    <limit effort="100" lower="-1.396263" upper="1.396263" velocity="100"/>
  </joint>
  <joint name="Wrist_Fi" type="revolute">
    <origin rpy="0 0 0" xyz="0.0 0.0525 0.072955"/>
    <parent link="Wrist_Fi_1"/>
    <child link="Gripper_Core_1"/>
    <axis xyz="0.0 1.0 -0.0"/>
    <limit effort="100" lower="-1.570796" upper="1.570796" velocity="100"/>
  </joint>
</robot>
